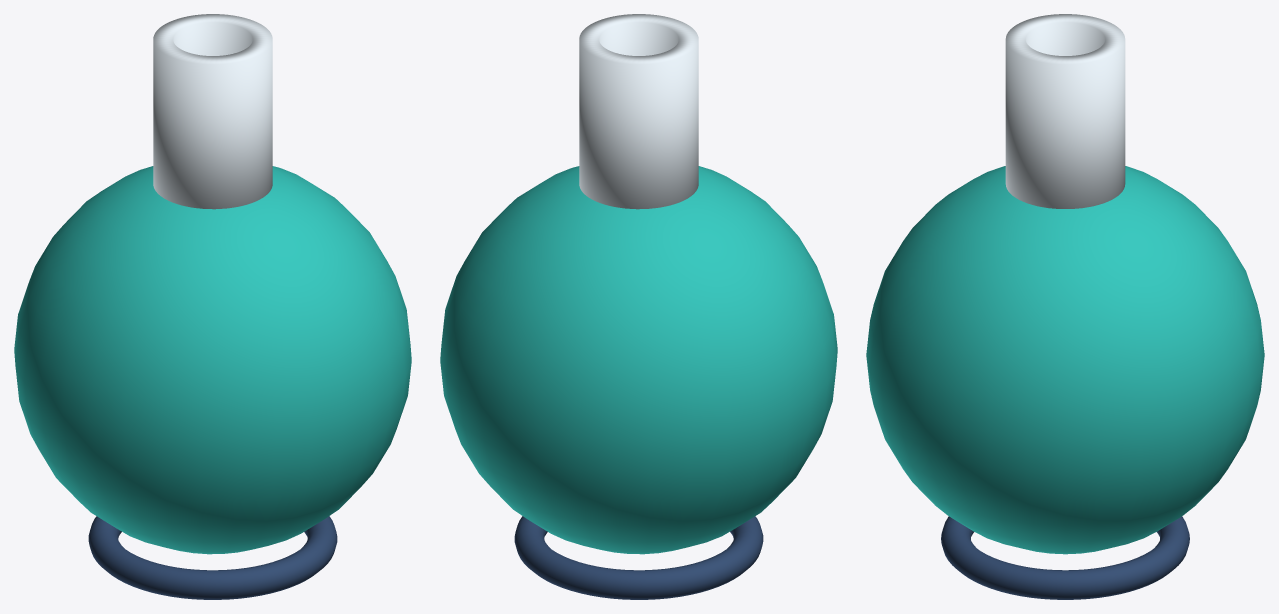
File: round-flask-quality.glb
3 views of the same model, side by side, from view 1: azimuth 30°, elevation 25°; view 2: azimuth 150°, elevation 25°; view 3: azimuth 270°, elevation 25° (orthographic).
Visible parts, largest first — view 1: Flask body; view 2: Flask body; view 3: Flask body.
Boxes of the visible parts, x1,y1,x2,y2 form: Flask body: (14, 14, 411, 599); Flask body: (440, 14, 837, 599); Flask body: (866, 14, 1264, 599).
Bounding box in the file's own units: 1.2 × 1.7 × 1.2.
